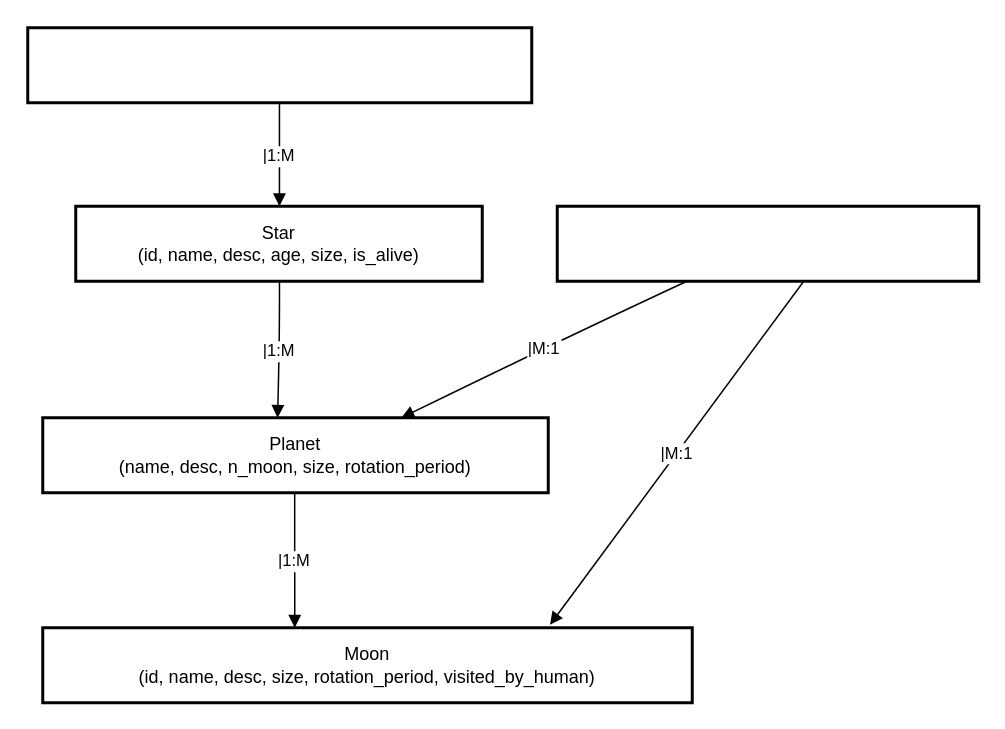
Image size: 1005x729. Some labels were removed from this diagram. Here are the shapes that lost their labels. From the top down, the centre of each, then its label:
pixel 279 65: Galaxy (id, name, desc, age, galaxy_type, distance)
pixel 767 243: Has_life (id, name, kind_life, year_discovery)
